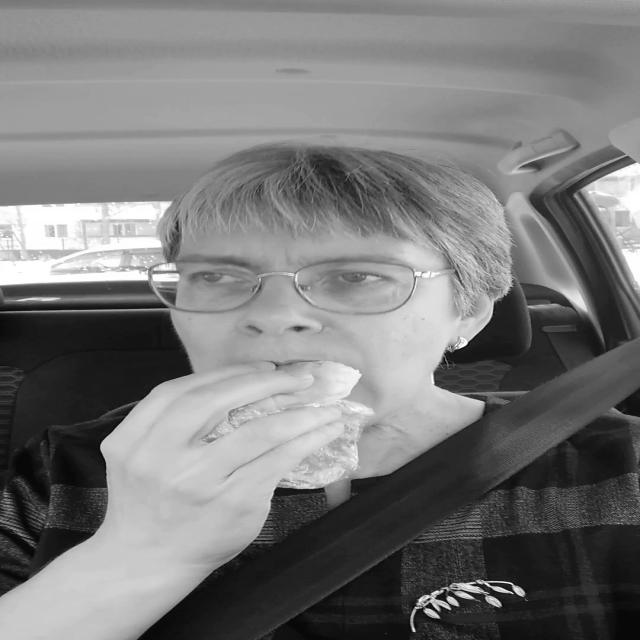Eating: (214, 354, 363, 496)
Seatbelt: (176, 346, 639, 640)
